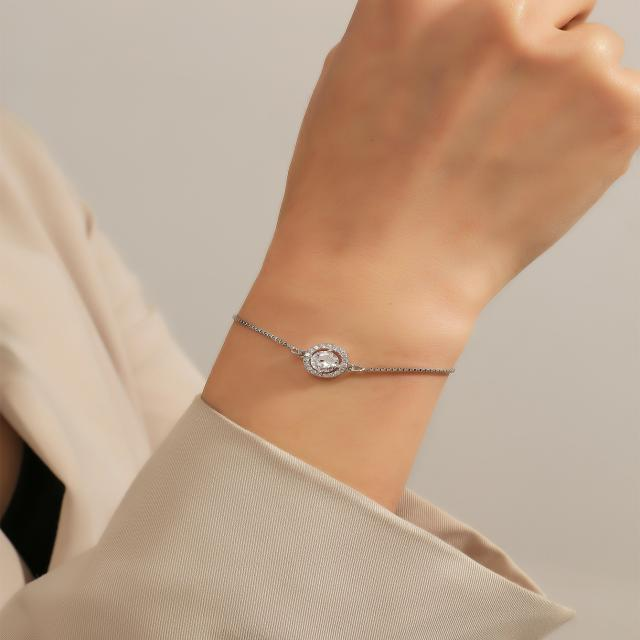bracelet: (166, 243, 493, 457)
